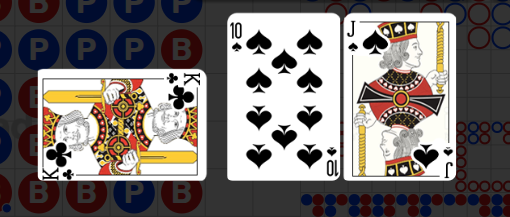10S: (229, 21, 243, 54)
JS: (411, 132, 455, 179), (344, 12, 388, 58)
